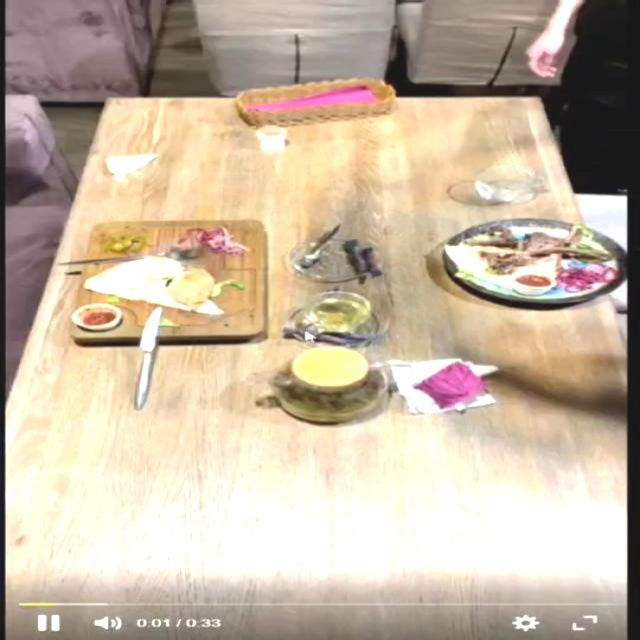meat: (73, 219, 269, 339), (430, 207, 637, 309)
tea: (268, 345, 387, 423)
